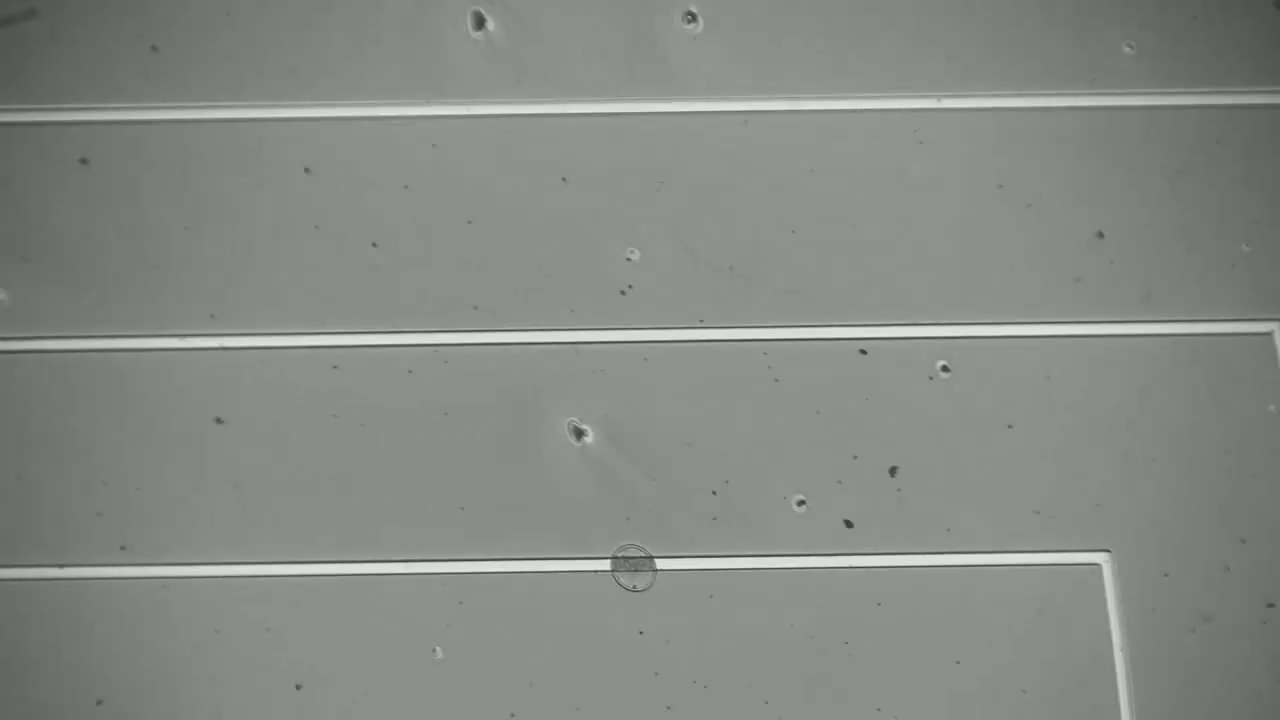gray_line: (594, 548, 673, 583)
